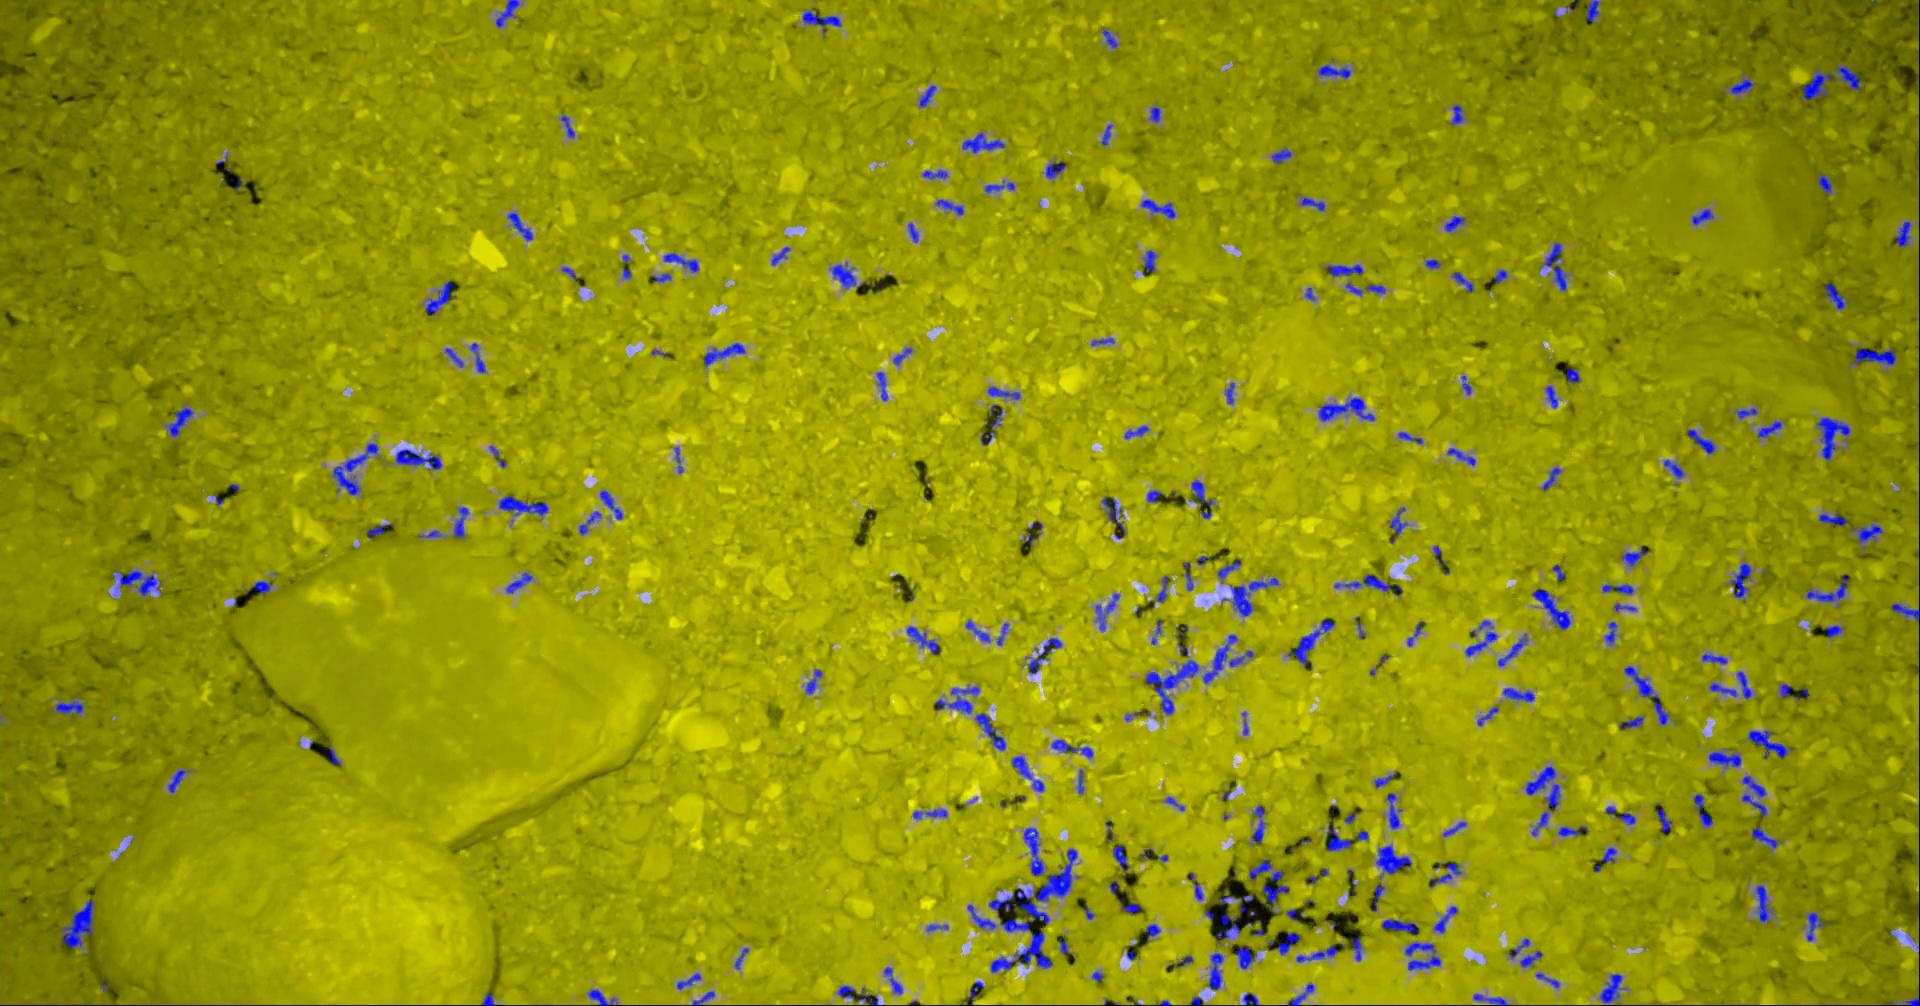ant: (1144, 641, 1197, 714), (1623, 666, 1669, 724), (1203, 634, 1253, 683), (990, 931, 1051, 972), (331, 442, 378, 494), (1288, 619, 1333, 668), (1229, 577, 1277, 616), (61, 899, 94, 948), (1531, 588, 1570, 629), (1815, 417, 1850, 459), (1525, 766, 1559, 809), (1318, 398, 1374, 420), (1027, 636, 1062, 673), (935, 685, 979, 713), (1542, 243, 1566, 290), (116, 570, 160, 596), (1465, 620, 1497, 655), (974, 713, 1004, 749), (1806, 574, 1848, 601), (1749, 730, 1790, 757), (1375, 845, 1411, 874), (1497, 633, 1528, 666), (1023, 827, 1044, 875), (1799, 70, 1832, 99), (703, 342, 745, 365), (1404, 942, 1440, 969), (498, 495, 547, 514), (1333, 574, 1390, 591), (395, 448, 441, 469), (837, 984, 883, 1005), (905, 625, 938, 653), (1095, 593, 1119, 631), (425, 279, 452, 312), (803, 10, 841, 33), (963, 132, 1004, 152), (1101, 497, 1124, 533), (165, 406, 192, 437), (1429, 862, 1462, 887), (1248, 859, 1283, 882), (1853, 347, 1896, 365), (980, 409, 1002, 445), (1730, 563, 1751, 597), (1599, 973, 1622, 1005), (1051, 739, 1092, 757), (507, 212, 532, 240), (1215, 913, 1239, 942), (599, 489, 622, 520), (663, 251, 698, 271), (829, 262, 855, 288), (1326, 823, 1351, 850), (1262, 884, 1288, 911), (1686, 429, 1714, 453), (968, 904, 996, 929), (1297, 945, 1337, 962), (1140, 199, 1175, 218), (495, 0, 519, 27), (1835, 64, 1859, 90), (1432, 906, 1457, 932), (1693, 793, 1712, 826), (1755, 885, 1771, 922), (1850, 523, 1882, 542), (1385, 793, 1402, 828), (1823, 283, 1846, 309), (1741, 793, 1766, 815), (1208, 951, 1223, 989), (505, 572, 532, 593), (1622, 546, 1650, 567), (1382, 918, 1418, 934), (1890, 603, 1919, 622), (965, 620, 990, 641), (1751, 826, 1777, 847), (1605, 807, 1636, 824), (1276, 932, 1300, 954), (1234, 945, 1256, 969), (1289, 983, 1313, 1005), (1806, 912, 1823, 941), (1191, 480, 1211, 506), (883, 967, 902, 993), (469, 342, 485, 372), (453, 506, 469, 539), (1708, 751, 1741, 766), (1448, 447, 1476, 465), (1389, 507, 1407, 535), (578, 511, 599, 533), (1742, 775, 1765, 796), (1023, 521, 1043, 546), (1251, 805, 1263, 843), (1150, 575, 1167, 605), (1451, 271, 1473, 292), (1011, 756, 1031, 779), (1112, 843, 1128, 873), (587, 989, 616, 1005), (1318, 64, 1350, 77), (1502, 687, 1534, 701), (1895, 220, 1911, 246), (1509, 937, 1529, 959), (1406, 621, 1423, 645), (168, 768, 185, 793), (676, 972, 700, 989), (965, 981, 983, 1005), (935, 199, 963, 215), (1736, 671, 1751, 699), (805, 668, 822, 694), (1477, 706, 1498, 725), (1327, 264, 1363, 276), (1217, 560, 1239, 578), (987, 386, 1018, 399), (1730, 77, 1754, 94), (1757, 420, 1782, 437), (1531, 810, 1548, 835), (1473, 993, 1507, 1005), (55, 700, 83, 714), (1189, 873, 1203, 901), (1656, 807, 1671, 832), (1542, 467, 1559, 489), (918, 84, 935, 107), (1519, 950, 1542, 967), (1709, 682, 1736, 696), (1535, 972, 1559, 987), (444, 347, 463, 366), (1663, 459, 1683, 478), (1691, 208, 1713, 225), (984, 180, 1015, 192), (367, 523, 390, 539), (912, 808, 946, 818), (1443, 821, 1465, 836), (1058, 934, 1073, 956), (771, 246, 789, 265), (1371, 883, 1384, 909), (1101, 27, 1117, 47), (1444, 215, 1464, 231), (876, 371, 888, 400), (1397, 431, 1422, 443), (1601, 584, 1633, 594), (1818, 513, 1846, 525), (691, 991, 714, 1005), (893, 347, 910, 365), (1045, 161, 1064, 178), (1557, 826, 1587, 836), (1124, 426, 1148, 438), (1604, 621, 1617, 645), (1619, 716, 1643, 729), (1585, 0, 1599, 22), (560, 116, 574, 137), (734, 948, 748, 969), (1302, 197, 1324, 210), (248, 580, 270, 593), (996, 622, 1008, 645), (1702, 653, 1727, 664), (1449, 104, 1463, 124), (1271, 149, 1291, 163), (1817, 174, 1831, 194), (1142, 250, 1156, 271), (1735, 406, 1757, 418), (1100, 124, 1112, 145), (1145, 923, 1161, 940), (1183, 561, 1192, 589), (1239, 894, 1253, 912), (1545, 385, 1557, 406), (673, 446, 682, 473), (1564, 367, 1578, 384), (922, 169, 947, 178), (1490, 269, 1507, 282), (1374, 775, 1392, 788), (907, 224, 918, 243), (1121, 902, 1140, 913), (1285, 908, 1304, 920), (1352, 936, 1361, 960), (1603, 847, 1617, 862), (1825, 624, 1841, 636), (328, 747, 340, 763), (481, 991, 495, 1005), (1091, 337, 1112, 345), (1149, 105, 1161, 122), (1241, 993, 1257, 1005), (1225, 382, 1234, 403), (1462, 375, 1470, 394), (1423, 258, 1440, 268), (1779, 683, 1790, 697), (1366, 285, 1384, 293), (1145, 490, 1161, 500), (1077, 768, 1083, 793), (1902, 996, 1919, 1005), (1032, 779, 1043, 791)
